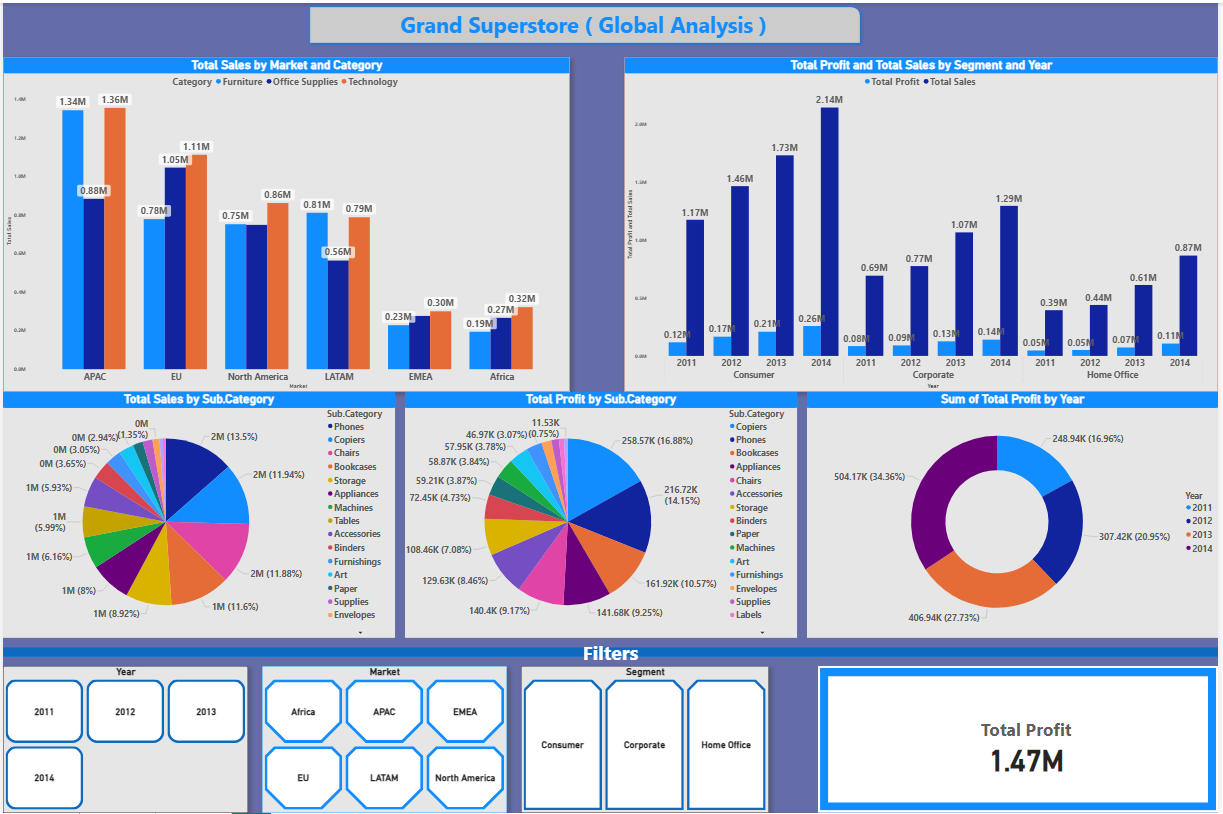

The page's visual inventory and layout, read from the dashboard file:
{"tool":"powerbi","page":{"name":"Page 1","canvas":[3000,2000],"ordinal":0},"visuals":[{"type":"lineClusteredColumnComboChart","fields":{"Category":["Sheet2 (2).Market"],"Series":["Sheet2 (2).Category"],"Y":["Sum(Sheet2 (2).Total Sales)"]},"box":[0,133.3,1400,827.2],"z":0},{"type":"clusteredColumnChart","fields":{"Category":["Sheet2 (2).Segment","Sheet2 (2).Year.Variation.Date Hierarchy.Year"],"Y":["Sum(Sheet2 (2).Total Profit)","Sum(Sheet2 (2).Total Sales)"]},"box":[1533.3,133.3,1466.7,827.2],"z":1000},{"type":"pieChart","fields":{"Category":["Sheet2 (2).Sub.Category"],"Y":["Sum(Sheet2 (2).Total Profit)"]},"box":[992.6,960.5,967.9,607.4],"z":2000},{"type":"pieChart","title":"Total Sales by Sub.Category","fields":{"Category":["Sheet2 (2).Sub.Category"],"Y":["Sum(Sheet2 (2).Total Sales)"]},"box":[0,960.5,967.9,607.4],"z":3000},{"type":"donutChart","fields":{"Category":["Sheet2 (2).Year.Variation.Date Hierarchy.Year"],"Y":["Sum(Sheet2 (2).Total Profit)"]},"box":[1985.2,960.5,1014.8,607.4],"z":4000},{"type":"shape","box":[0,1567.9,3000,69.1],"z":5000},{"type":"advancedSlicerVisual","title":"Year","fields":{"Values":["Sheet2 (2).Year.Variation.Date Hierarchy.Year"]},"box":[0,1637,604.9,363],"z":6000},{"type":"advancedSlicerVisual","fields":{"Values":["Sheet2 (2).Market"]},"box":[639.5,1637,604.9,363],"z":7000},{"type":"advancedSlicerVisual","fields":{"Values":["Sheet2 (2).Segment"]},"box":[1279,1637,612.3,363],"z":8000},{"type":"cardVisual","fields":{"Data":["Sum(Sheet2 (2).Total Profit)"]},"box":[2012,1638,988,362],"z":9000},{"type":"shape","box":[748.1,0,1377.8,108.6],"z":10000}]}

Visuals, with their boxes in screenshot pixels (x1, y1, x2, y2), scaled from the page's 3000x2000 canvas onto the 1223x814 screenshot:
lineClusteredColumnComboChart - Sheet2 (2).Market x Sheet2 (2).Category: 0/54/571/391
clusteredColumnChart - Sheet2 (2).Segment x Sheet2 (2).Year.Variation.Date Hierarchy.Year: 625/54/1222/391
pieChart - Sheet2 (2).Sub.Category x Sum(Sheet2 (2).Total Profit): 405/391/799/638
"Total Sales by Sub.Category" pieChart: 0/391/395/638
donutChart - Sheet2 (2).Year.Variation.Date Hierarchy.Year x Sum(Sheet2 (2).Total Profit): 809/391/1222/638
shape: 0/638/1222/666
"Year" advancedSlicerVisual: 0/666/247/813
advancedSlicerVisual - Sheet2 (2).Market: 261/666/507/813
advancedSlicerVisual - Sheet2 (2).Segment: 521/666/771/813
cardVisual - Sum(Sheet2 (2).Total Profit): 820/667/1222/813
shape: 305/0/867/44
